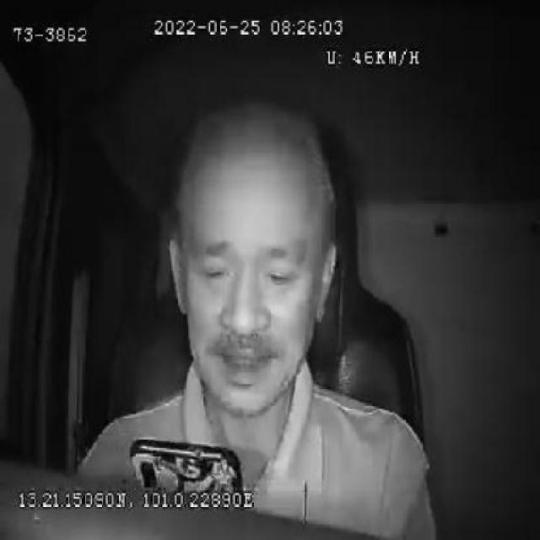phone: (129, 439, 246, 495)
